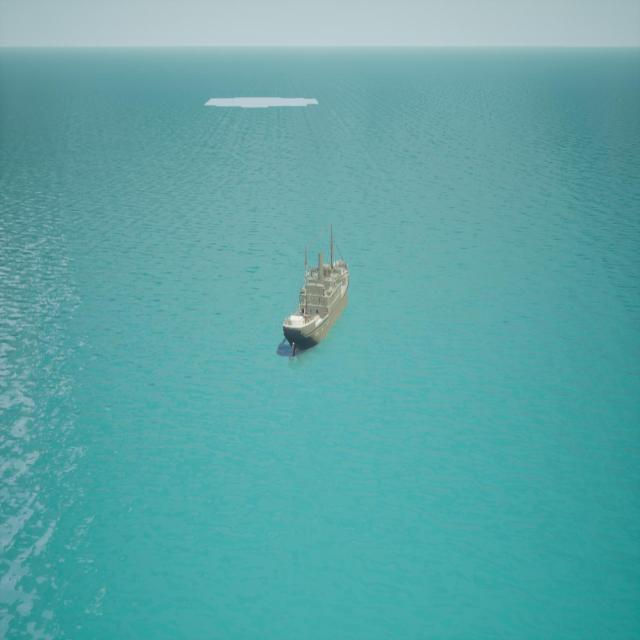fishing ship: (284, 226, 350, 356)
